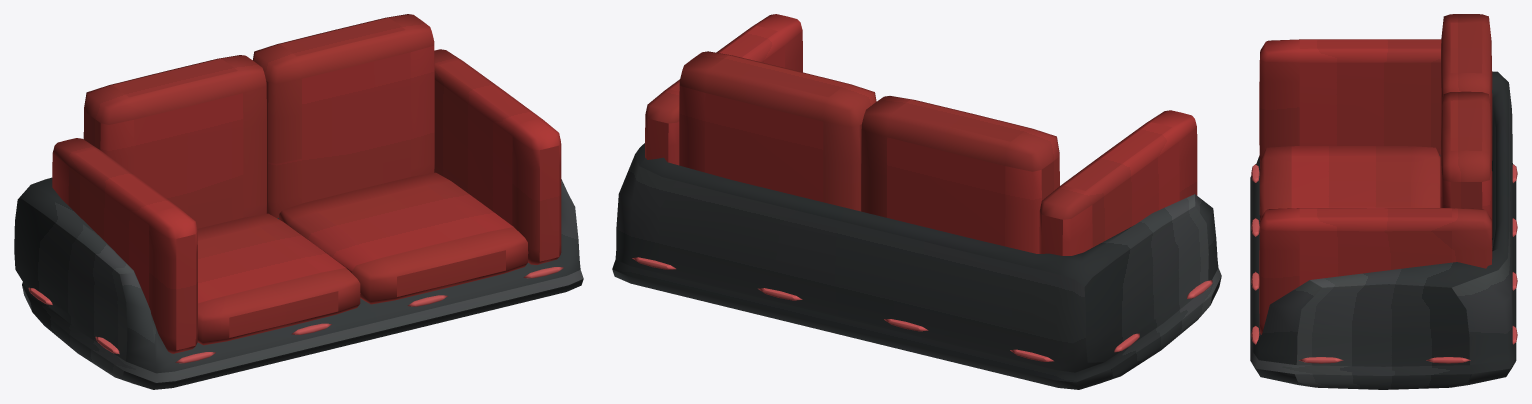
File: Couch02_Red.fbx
The picture shows the model from 3 angles, left to right: view 1: azimuth 30°, elevation 25°; view 2: azimuth 150°, elevation 25°; view 3: azimuth 270°, elevation 25°; orthographic projection. The views are drawn at different scales.
Visible parts, largest first — view 1: Sofa_1; view 2: Sofa_1; view 3: Sofa_1.
Boxes of the visible parts, x1,y1,x2,y2 form: Sofa_1: (14, 14, 583, 389); Sofa_1: (612, 14, 1221, 389); Sofa_1: (1250, 14, 1517, 389).
Bounding box in the file's own units: 177 × 77.7 × 92.75.
